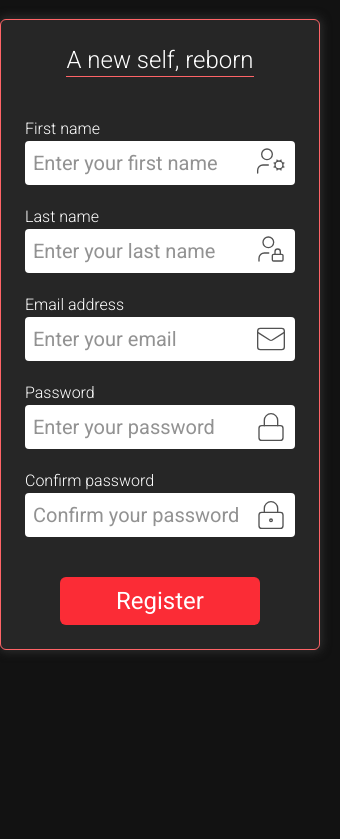
Get Started Form › checks for invalid feedback
The width and height of the screenshot is (340, 839).
Click the button with aria-label "register-button" at (160, 601), box x1=60 y1=577 x2=260 y2=625
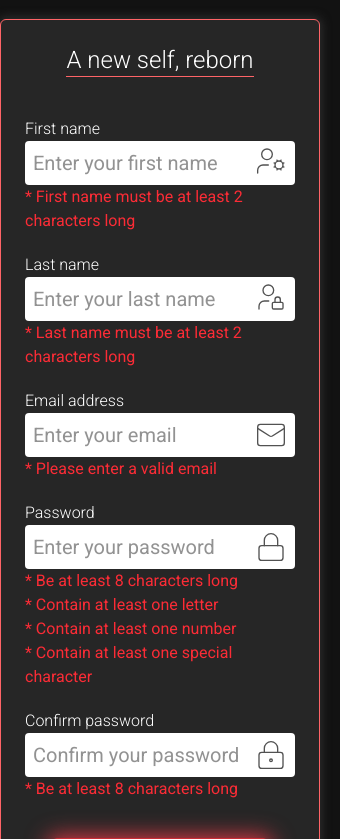
Expected: the text with test id "first-name-error" reads "* First name must be at least 2 characters long", x1=25 y1=187 x2=243 y2=230
Expected: the text with test id "last-name-error" reads "* Last name must be at least 2 characters long", x1=25 y1=323 x2=242 y2=366
Expected: the text with test id "email-error" reads "* Please enter a valid email", x1=25 y1=459 x2=217 y2=478
